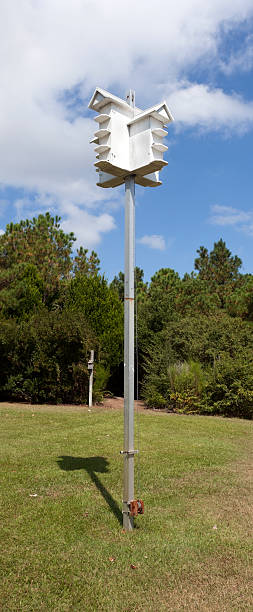light_pole: (115, 190, 144, 526)
